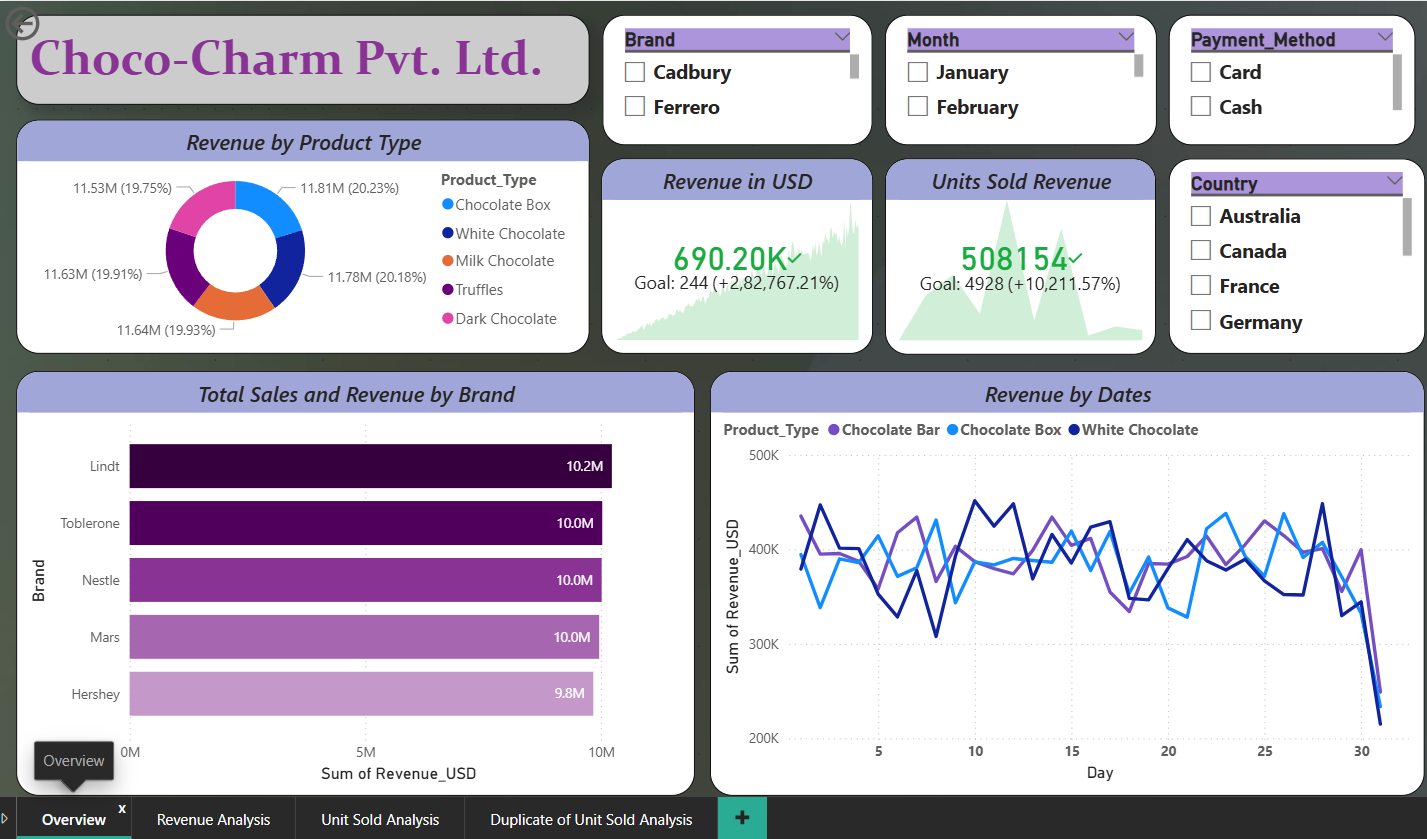

What the dashboard file says about the page in this screenshot:
{"tool":"powerbi","page":{"name":"Overview","canvas":[1280,720],"ordinal":0},"visuals":[{"type":"kpi","title":"Revenue in USD","fields":{"Indicator":["Sum(chocolate_sales_50000.Revenue_USD)"],"TrendLine":["chocolate_sales_50000.Units_Sold"],"Goal":["CountNonNull(chocolate_sales_50000.Sale_ID)"]},"box":[534.2,140.3,241.2,173.5],"z":0},{"type":"textbox","box":[14.8,12.3,509.5,80],"z":1000},{"type":"donutChart","title":"Revenue by Product Type","fields":{"Category":["chocolate_sales_50000.Product_Type"],"Y":["Sum(chocolate_sales_50000.Revenue_USD)"]},"box":[14.8,105.8,509.5,208],"z":2000},{"type":"actionButton","box":[0,0,100,40],"z":3000},{"type":"clusteredBarChart","title":"Total Sales and Revenue by Brand","fields":{"Y":["Sum(chocolate_sales_50000.Revenue_USD)"],"Category":["chocolate_sales_50000.Brand"]},"box":[14.8,328.6,603.1,377.8],"z":4000},{"type":"lineChart","title":"Revenue by Dates","fields":{"Y":["Sum(chocolate_sales_50000.Revenue_USD)"],"Category":["chocolate_sales_50000.Date.Variation.Date Hierarchy.Day"],"Series":["chocolate_sales_50000.Product_Type"]},"box":[631.4,328.6,635.1,377.8],"z":5000},{"type":"slicer","fields":{"Values":["chocolate_sales_50000.Country"]},"box":[1038.8,140.3,227.7,173.5],"z":6000},{"type":"slicer","fields":{"Values":["chocolate_sales_50000.Brand"]},"box":[535.4,12.3,240,115.7],"z":7000},{"type":"slicer","fields":{"Values":["chocolate_sales_50000.Payment_Method"]},"box":[1038.8,12.3,219.1,115.7],"z":8000},{"type":"slicer","fields":{"Values":["chocolate_sales_50000.Date.Variation.Date Hierarchy.Month"]},"box":[786.5,12.3,241.2,115.7],"z":9000},{"type":"kpi","title":"Units Sold Revenue","fields":{"Indicator":["Sum(chocolate_sales_50000.Units_Sold)"],"TrendLine":["chocolate_sales_50000.Country"],"Goal":["CountNonNull(chocolate_sales_50000.Revenue_USD)"]},"box":[787,140,241,174],"z":10000}]}

Visuals, with their boxes on the page's 1280x720 design canvas (x1, y1, x2, y2). These are canvas units, not pixel positions in the 1427x839 screenshot, which may show the page scaled, cropped or inside an application window:
"Revenue in USD" kpi: left=534, top=140, right=775, bottom=314
textbox: left=15, top=12, right=524, bottom=92
"Revenue by Product Type" donutChart: left=15, top=106, right=524, bottom=314
actionButton: left=0, top=0, right=100, bottom=40
"Total Sales and Revenue by Brand" clusteredBarChart: left=15, top=329, right=618, bottom=706
"Revenue by Dates" lineChart: left=631, top=329, right=1266, bottom=706
slicer - chocolate_sales_50000.Country: left=1039, top=140, right=1266, bottom=314
slicer - chocolate_sales_50000.Brand: left=535, top=12, right=775, bottom=128
slicer - chocolate_sales_50000.Payment_Method: left=1039, top=12, right=1258, bottom=128
slicer - chocolate_sales_50000.Date.Variation.Date Hierarchy.Month: left=786, top=12, right=1028, bottom=128
"Units Sold Revenue" kpi: left=787, top=140, right=1028, bottom=314
